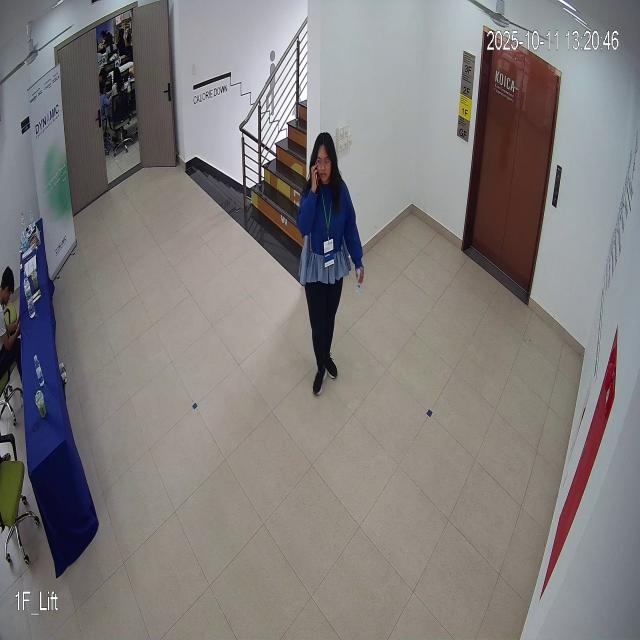face: (313, 130, 340, 194)
